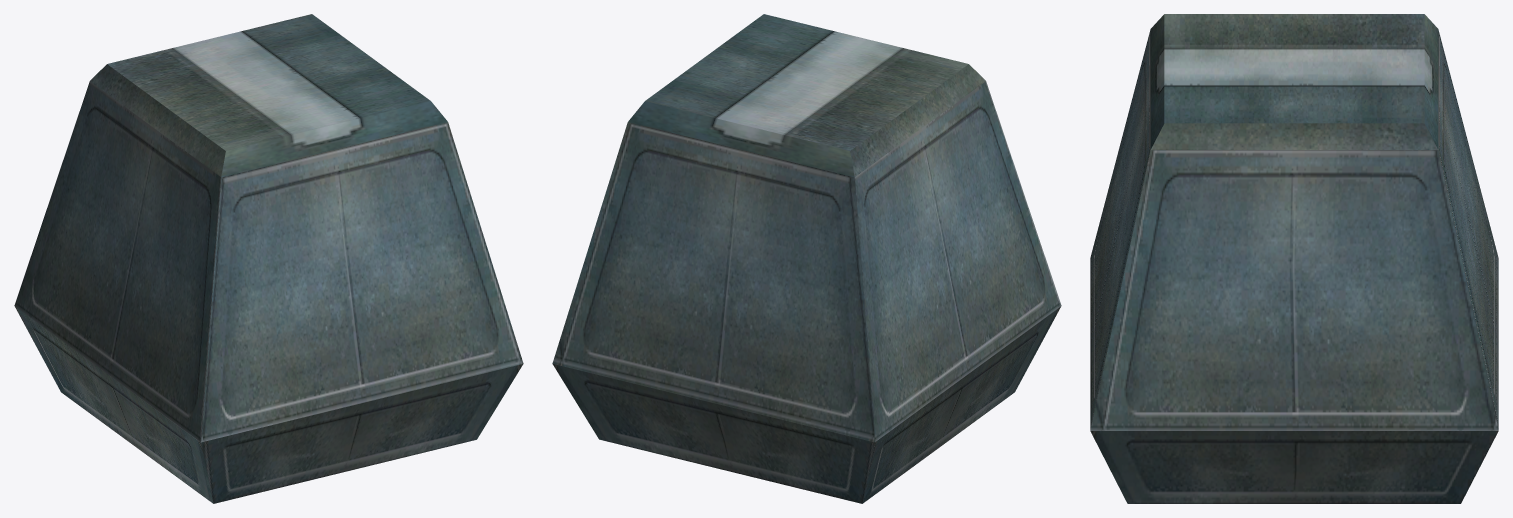
File: con_gen_crate_basic_s4_l2.fbx
3 views of the same model, side by side, from view 1: azimuth 30°, elevation 25°; view 2: azimuth 150°, elevation 25°; view 3: azimuth 270°, elevation 25° (orthographic). The views are drawn at different scales.
Parts seen in each view (by area): view 1: mesh_node; view 2: mesh_node; view 3: mesh_node.
Boxes of the visible parts, box(x1,y1,x2,y2) form: mesh_node: box(14, 14, 523, 503); mesh_node: box(552, 14, 1061, 503); mesh_node: box(1090, 14, 1498, 503).
Bounding box in the file's own units: 0.6988 × 0.6905 × 0.7007.
1 material, 1 textured.
